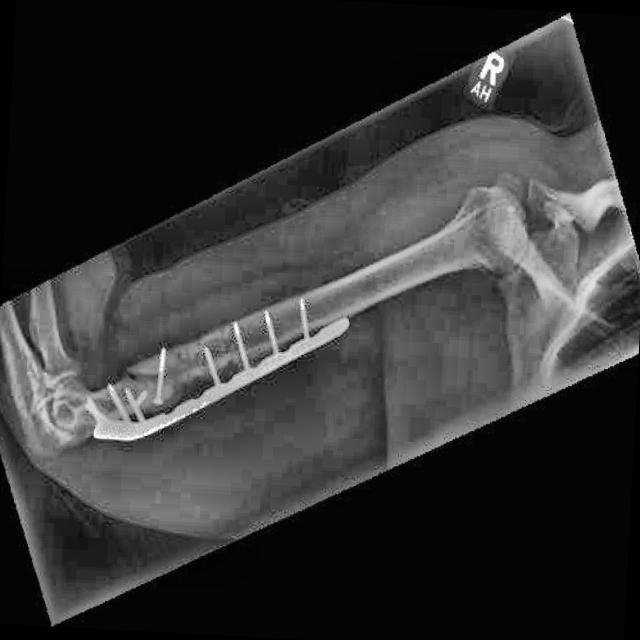humerus: (113, 314, 195, 422)
